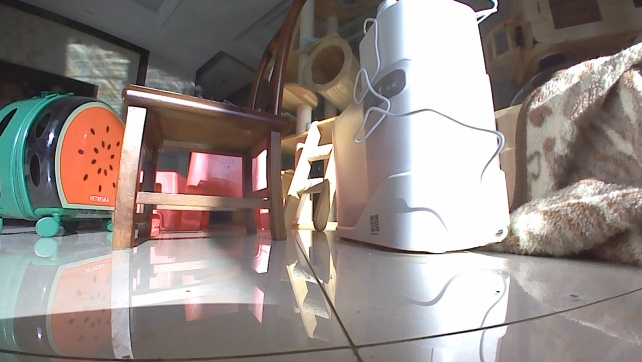wire: (350, 17, 505, 177), (472, 0, 509, 24)
